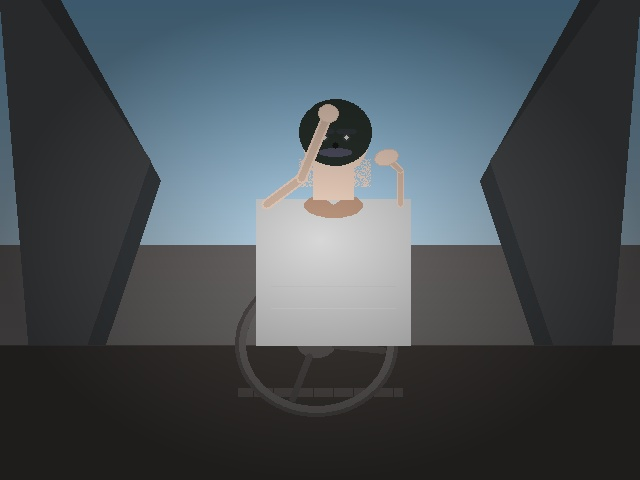hands_off_wheel: (305, 93, 351, 134)
